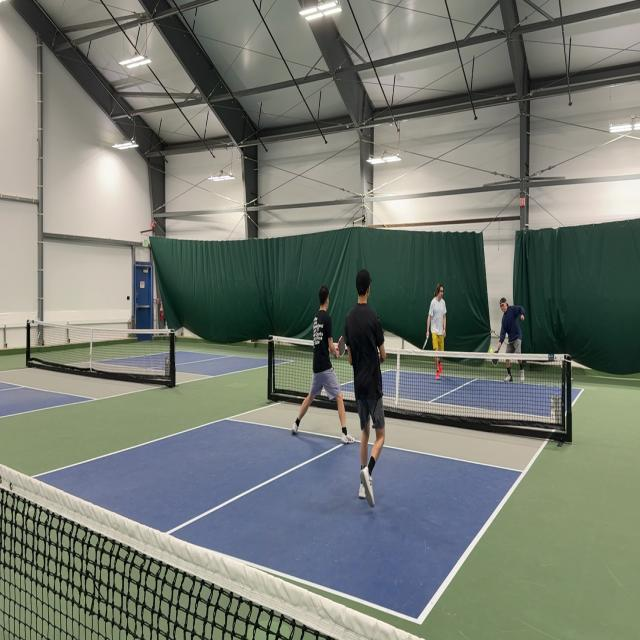ball: (490, 348, 493, 355)
